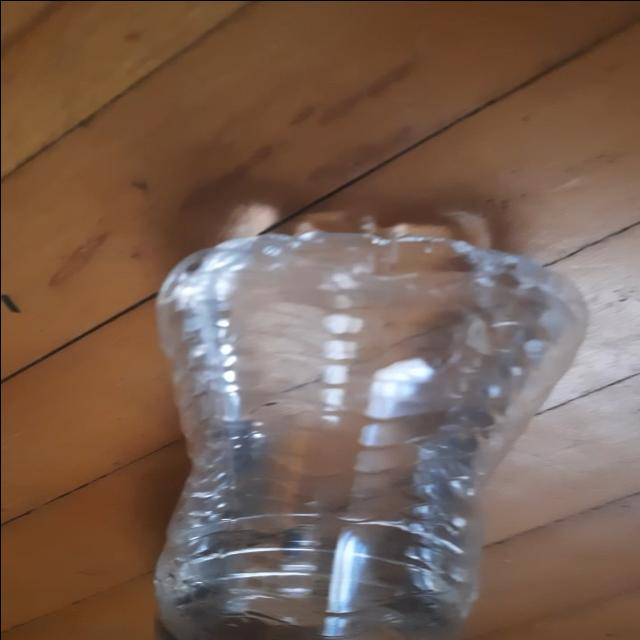Plastic: (152, 210, 588, 640)
